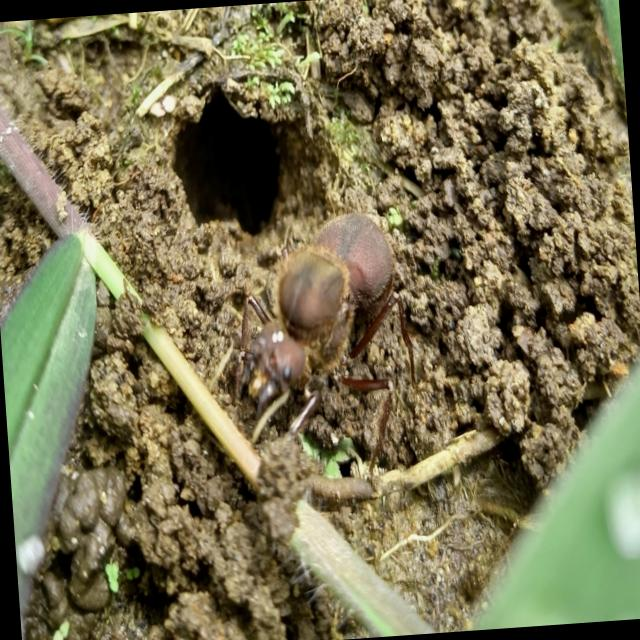Alive-Female-Dealate: (197, 208, 424, 506)
